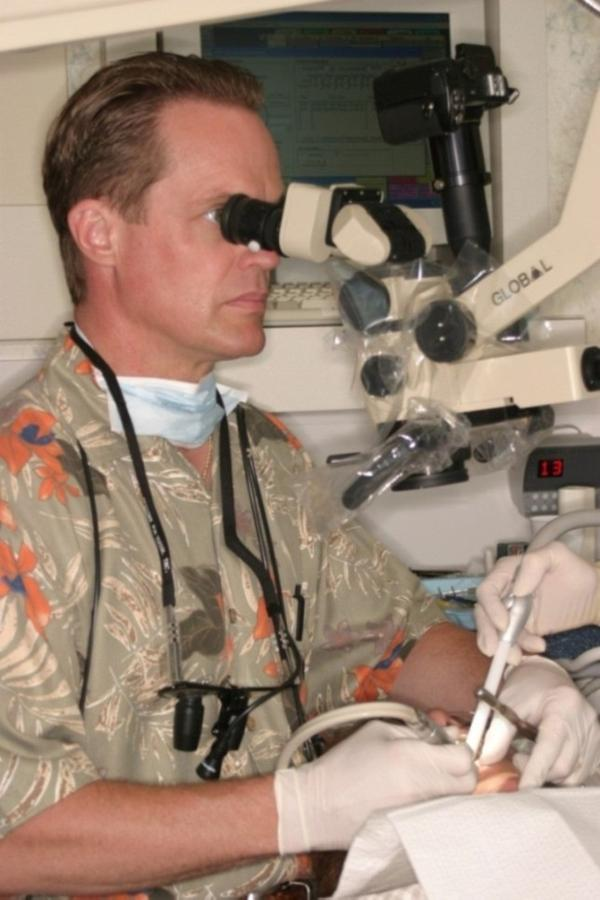person: (4, 57, 600, 893)
